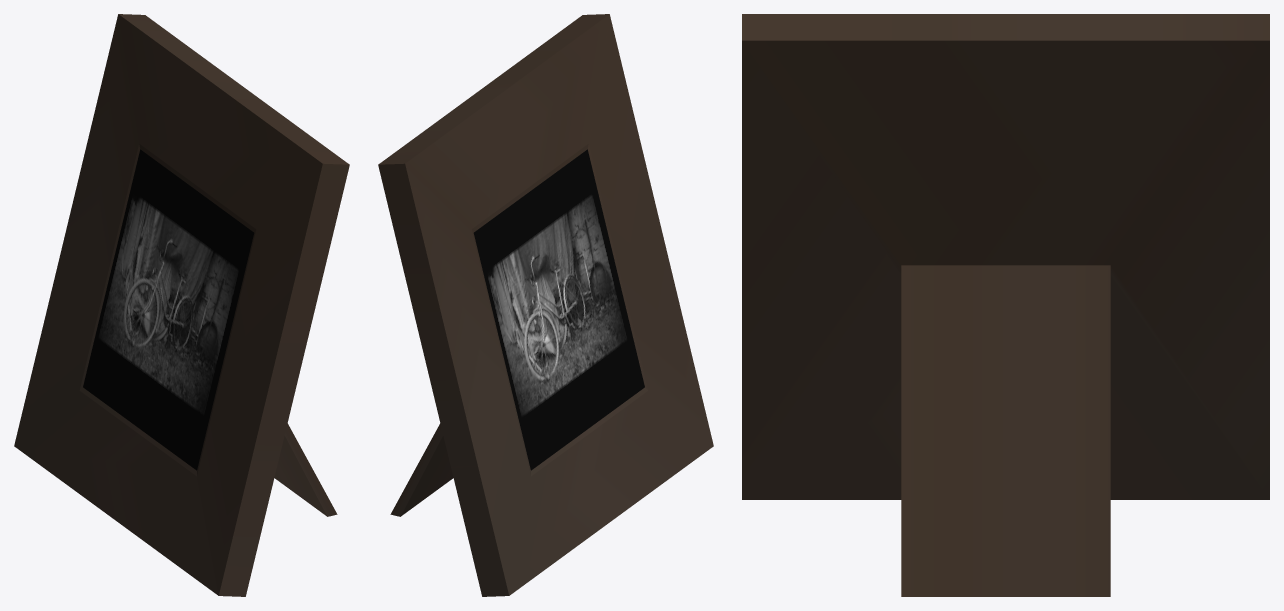
The model's file is FrameSmall.FBX.
3 views of the same model, side by side, from view 1: azimuth 30°, elevation 25°; view 2: azimuth 150°, elevation 25°; view 3: azimuth 270°, elevation 25° (orthographic). The views are drawn at different scales.
Visible parts, largest first — view 1: Object066; view 2: Object066; view 3: Object066.
Part boxes in pixels (box(x1,y1,x2,y2)): Object066: box(14, 14, 349, 596); Object066: box(378, 14, 713, 596); Object066: box(742, 14, 1269, 596).
Size of the model in its own units: 3.15 by 6.9 by 6.18.
Materials: 1 (1 with a texture image).
